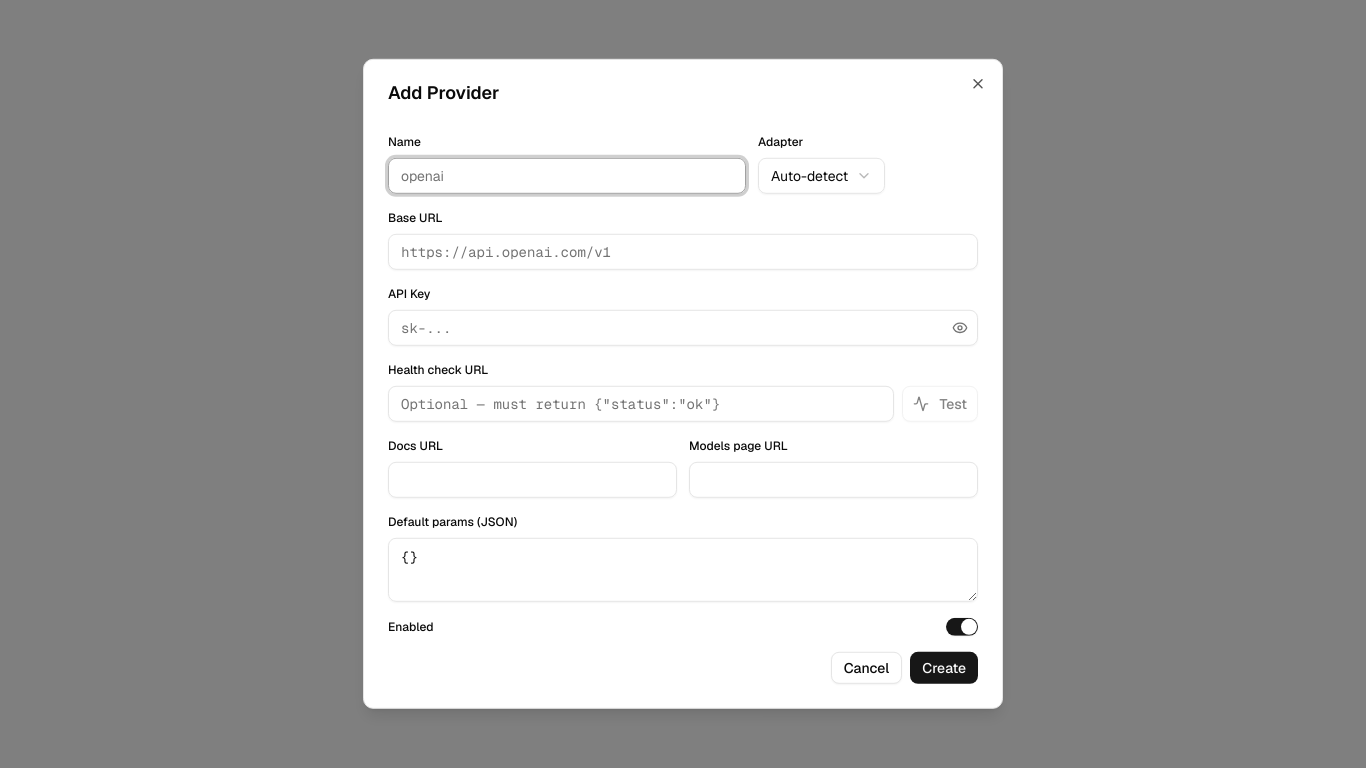
Test: ProviderFormDialog — create mode › shows inline parse error for invalid JSON
The image size is (1366, 768).
Type "my-prov" into the field with placeholder "openai" at (567, 176), box [388,158,746,194]
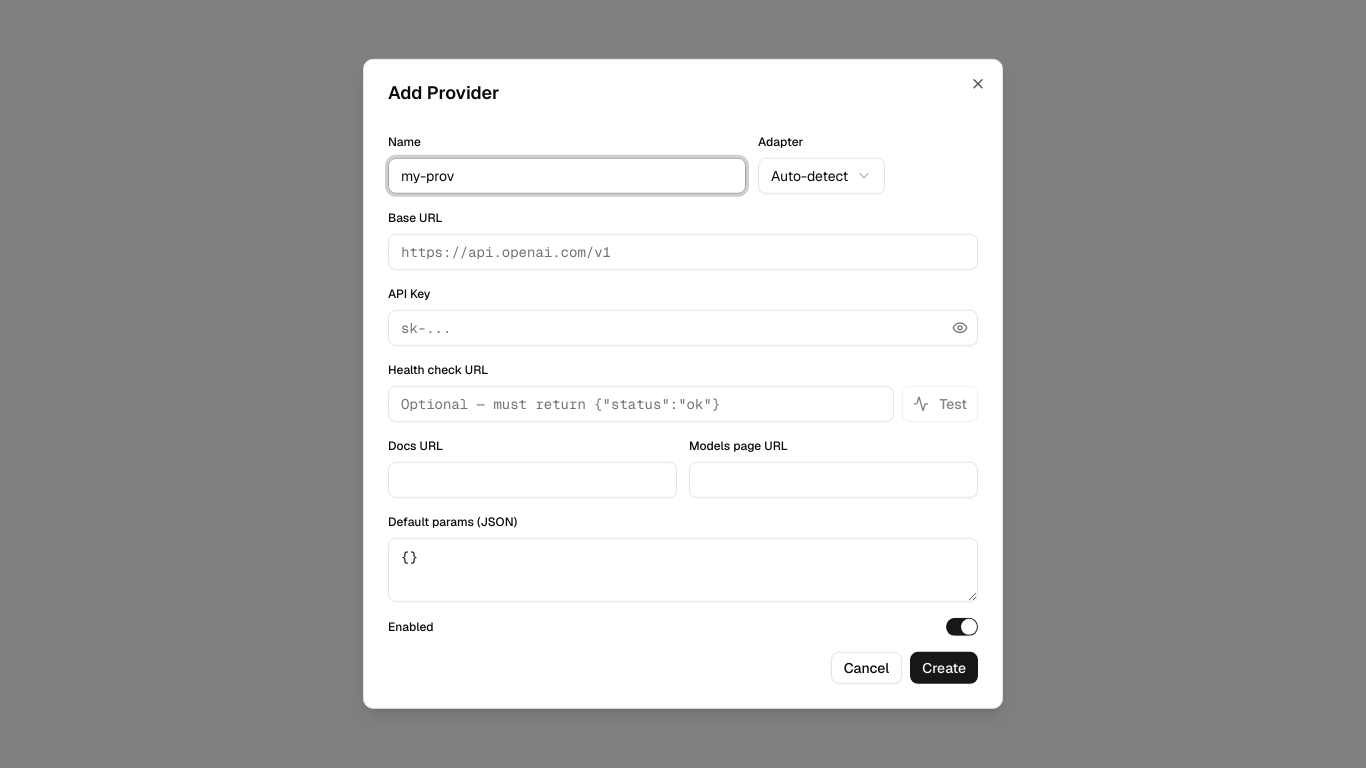
// Fill base_url
Type "https://example.com" into the field with placeholder "https://api.openai.com/v1" at (683, 252), box [388,234,978,270]
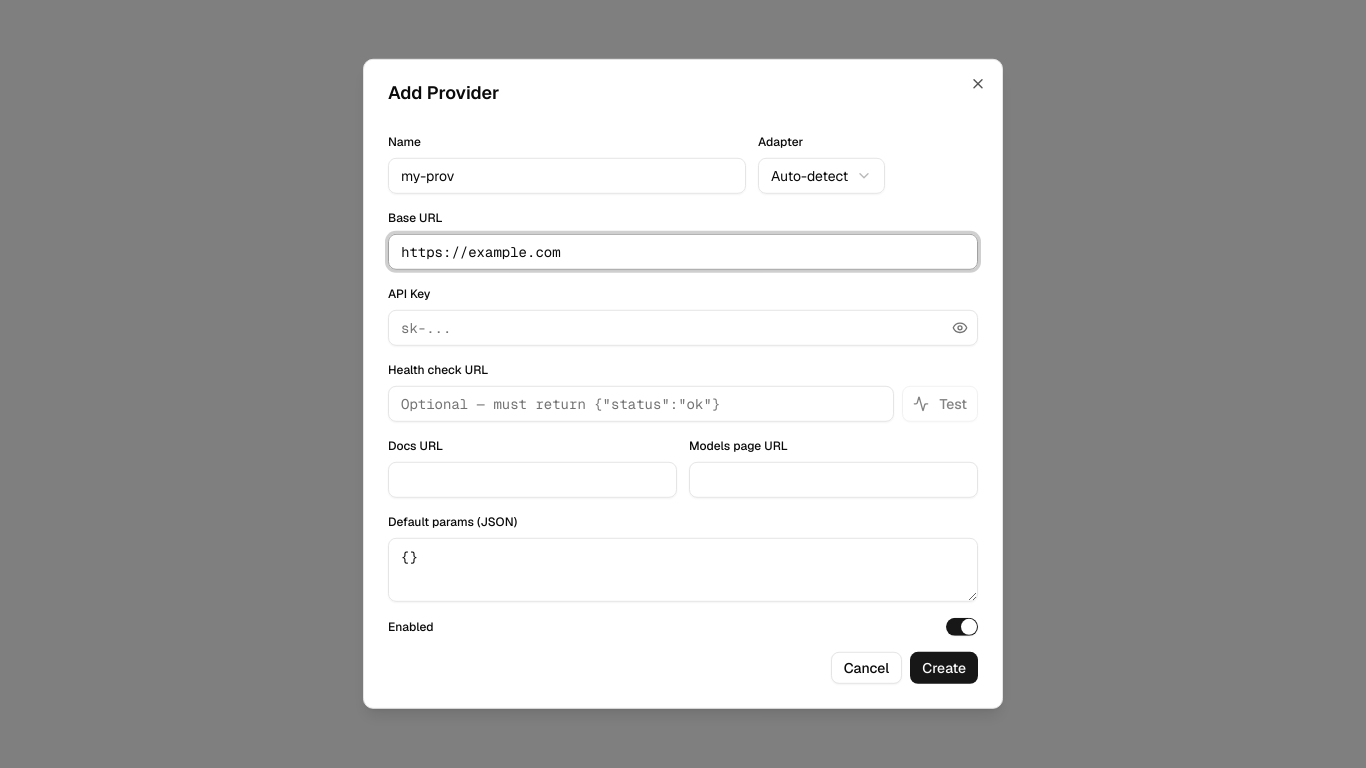
Replace the text in the text box labelled "Default params (JSON)" with "bad json" at (683, 570), box [388,538,978,602]
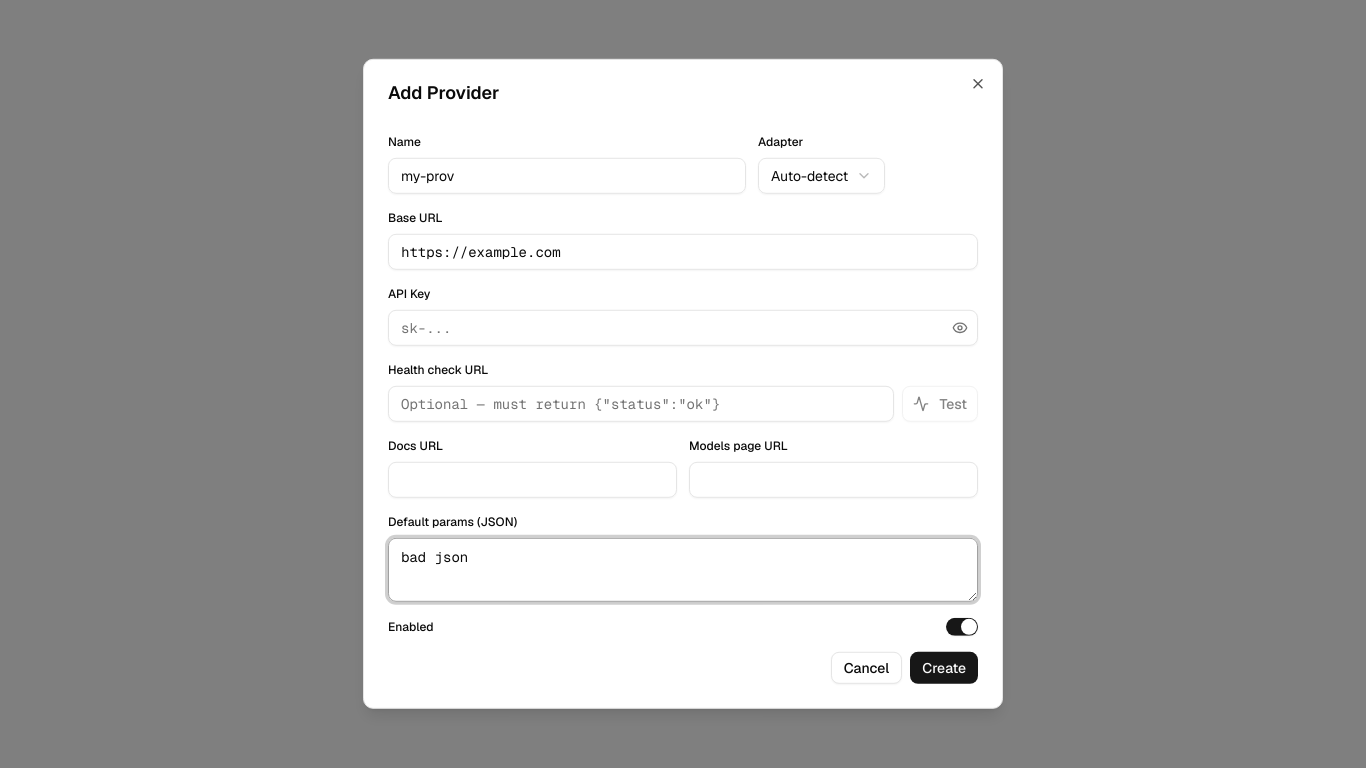
Click the button "Create" at (944, 668), box [910,652,978,684]
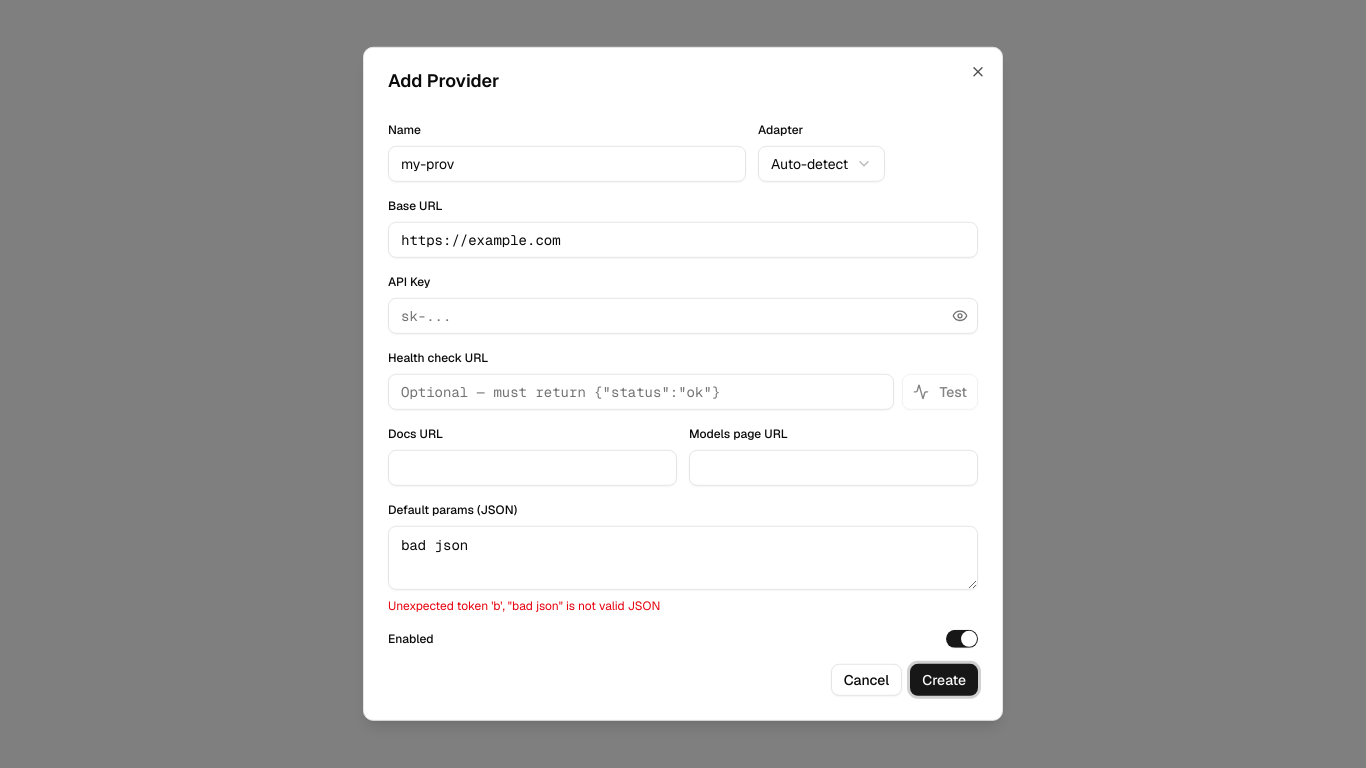
Expected: the text "Unexpected token 'b', \"bad json\" is not valid JSON" is shown, [388,598,660,614]
